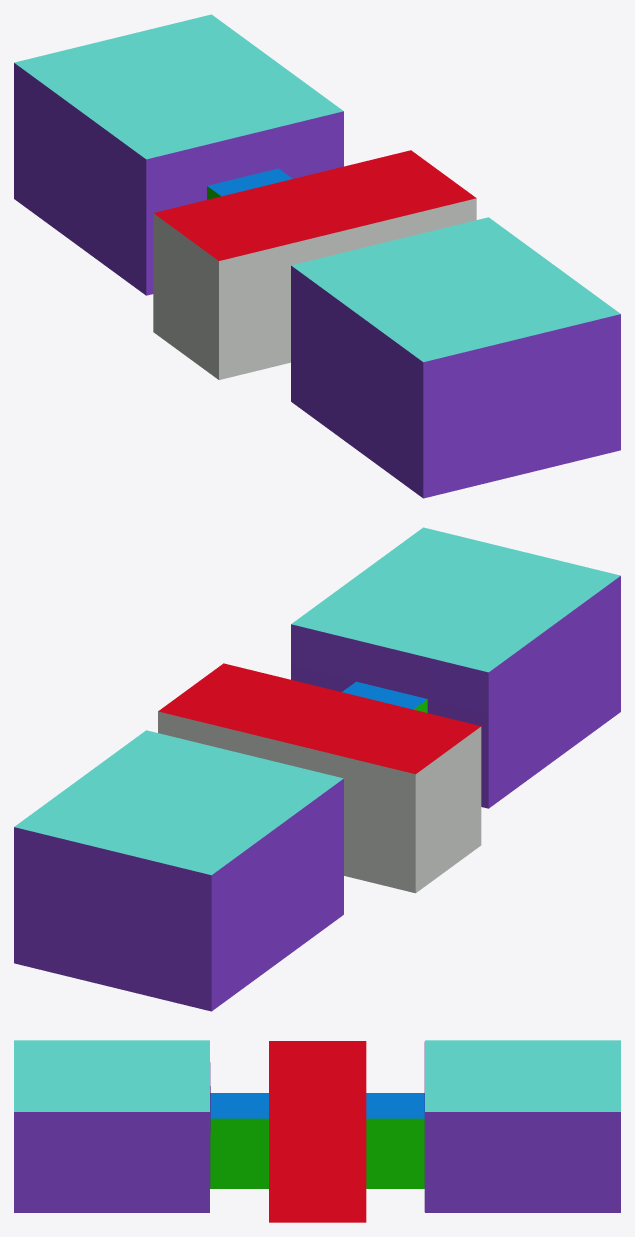
Rendered from MASK2Room 1.fbx.
3 views of the same model, one above another, from view 1: azimuth 30°, elevation 25°; view 2: azimuth 150°, elevation 25°; view 3: azimuth 270°, elevation 25° (orthographic). The views are drawn at different scales.
Visible parts, largest first — view 1: Second Mask; view 2: Second Mask; view 3: Second Mask.
Part boxes in pixels (<box>): Second Mask: <box>14,14,620,498</box>; Second Mask: <box>14,527,620,1011</box>; Second Mask: <box>14,1040,620,1222</box>.
Bounding box in the file's own units: 1011 × 511 × 2780.
